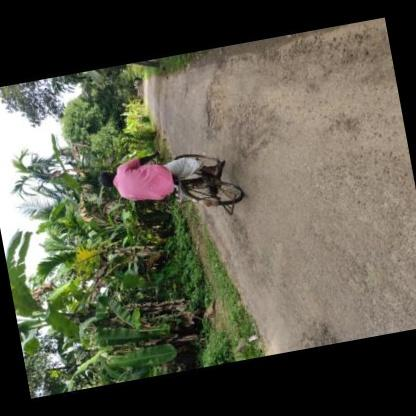Bicycle: (163, 148, 255, 229)
